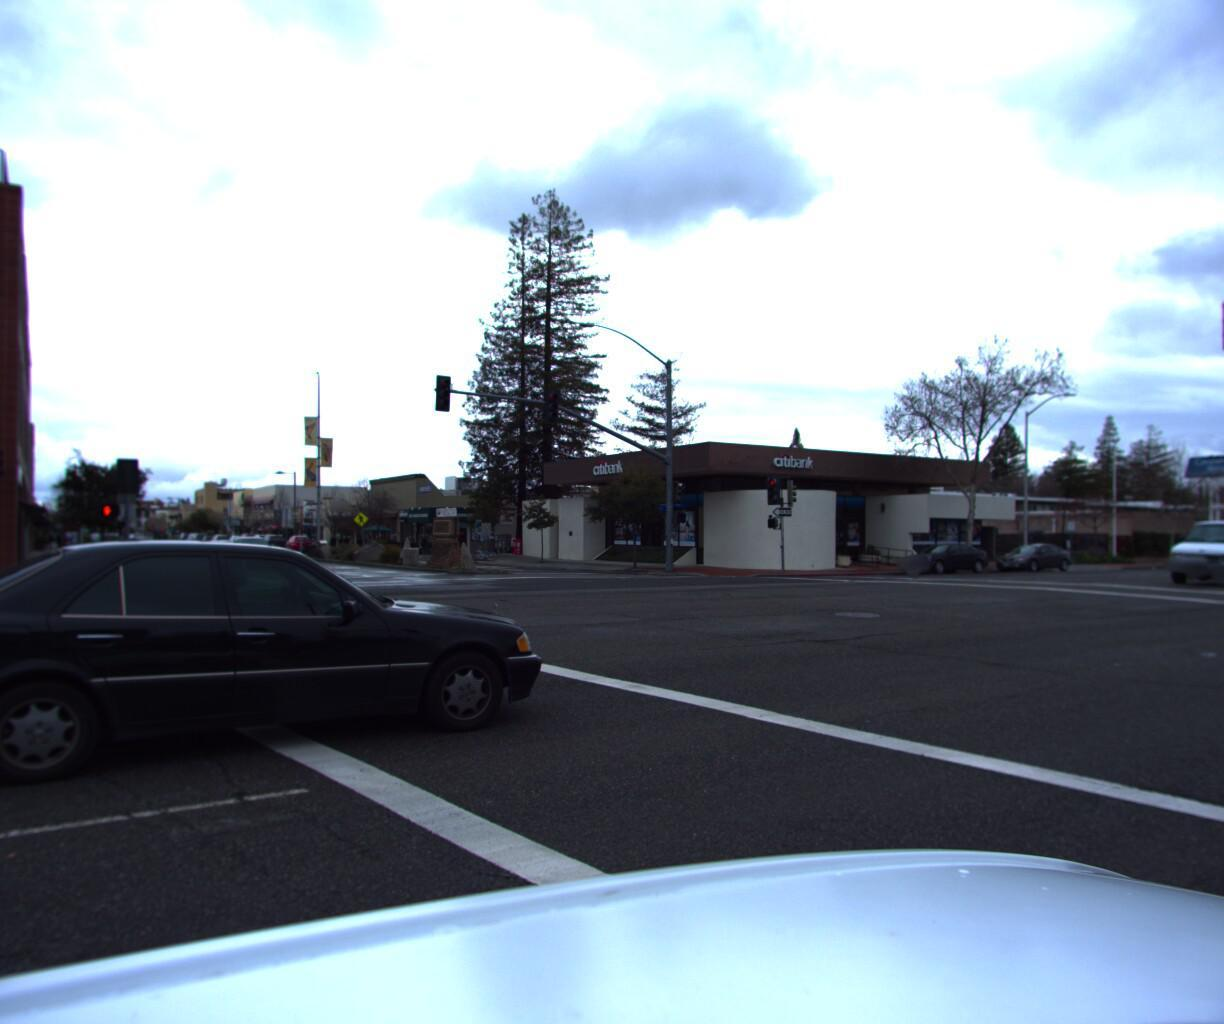car: (0, 542, 571, 833), (1153, 522, 1224, 599), (890, 554, 989, 590), (986, 546, 1073, 584), (185, 551, 254, 593), (234, 546, 285, 576), (298, 545, 342, 568), (282, 542, 317, 562), (262, 543, 291, 559)
